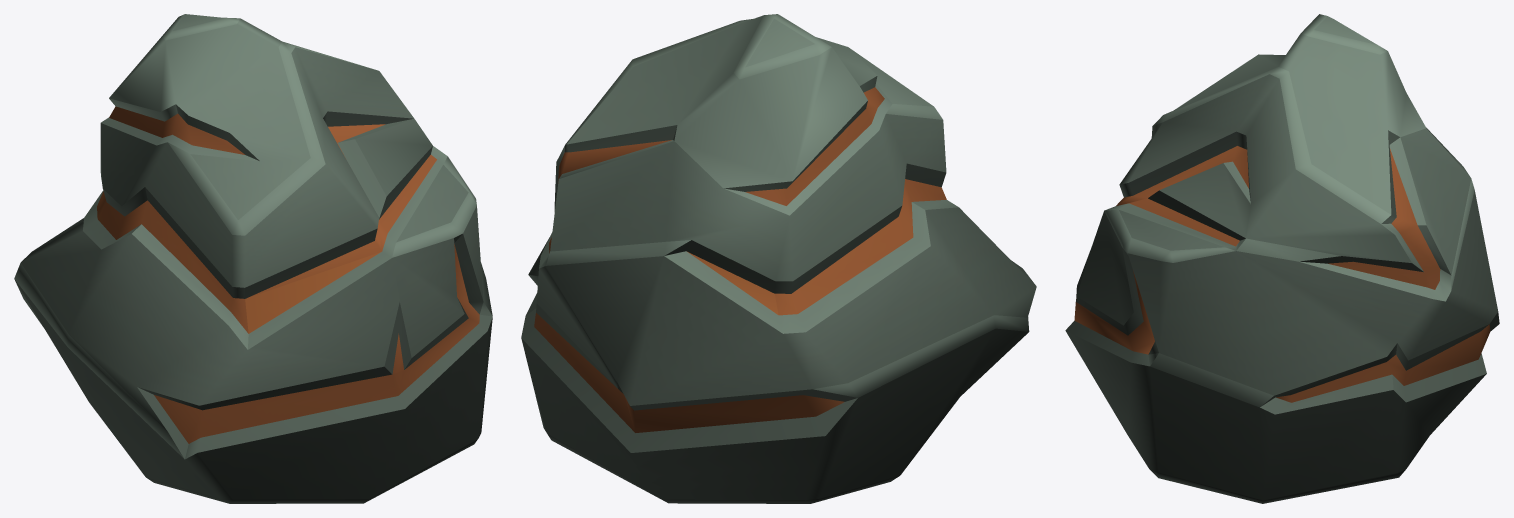
The model's file is ore_veins_bronze_L.fbx.
3 renders of one model, left to right at view 1: azimuth 30°, elevation 25°; view 2: azimuth 150°, elevation 25°; view 3: azimuth 270°, elevation 25°, orthographic. The views are drawn at different scales.
Visible parts, largest first — view 1: ore_veins_bronze_L; view 2: ore_veins_bronze_L; view 3: ore_veins_bronze_L.
Boxes of the visible parts, box(x1,y1,x2,y2) form: ore_veins_bronze_L: box(14, 14, 492, 503); ore_veins_bronze_L: box(521, 14, 1036, 503); ore_veins_bronze_L: box(1065, 14, 1499, 503).
Bounding box in the file's own units: 210 × 228 × 205.
Materials: 1 (1 with a texture image).
